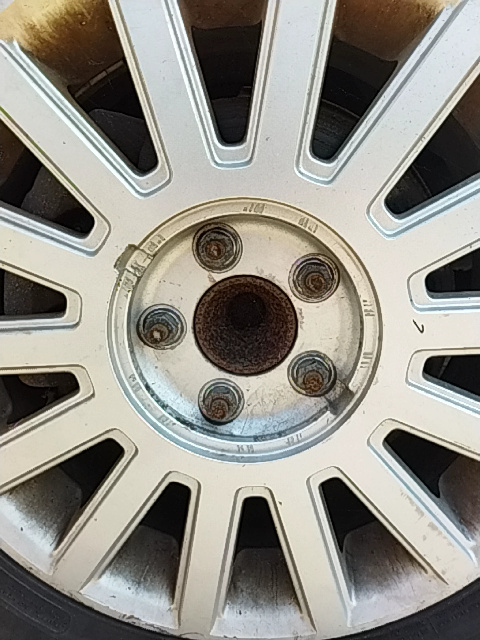l: (178, 212, 259, 280), (279, 344, 345, 411), (288, 243, 345, 308), (187, 375, 249, 433), (131, 302, 193, 359)
